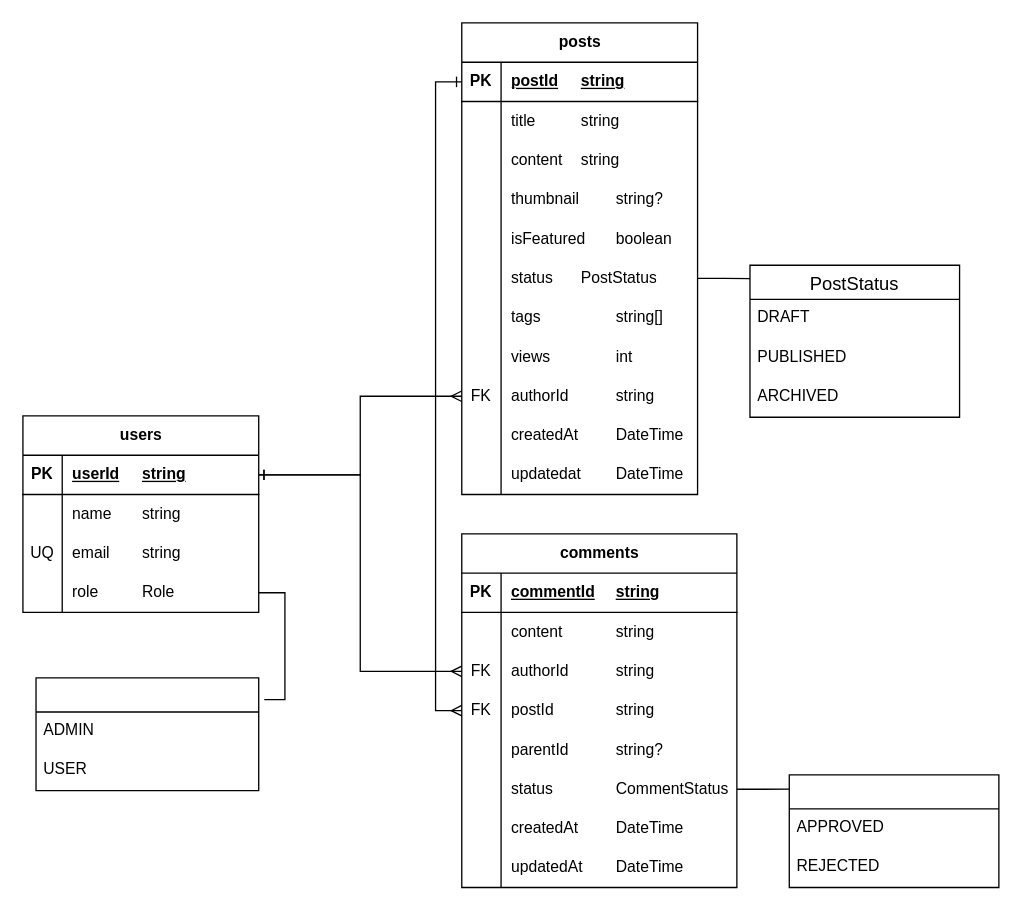
Image size: 1022x914. Some labels were removed from this diagram. Here are the shapes that lost their labels. From the top down, the box of each, then its label:
(35, 677, 259, 791): Role
(788, 774, 999, 888): CommentStatus
